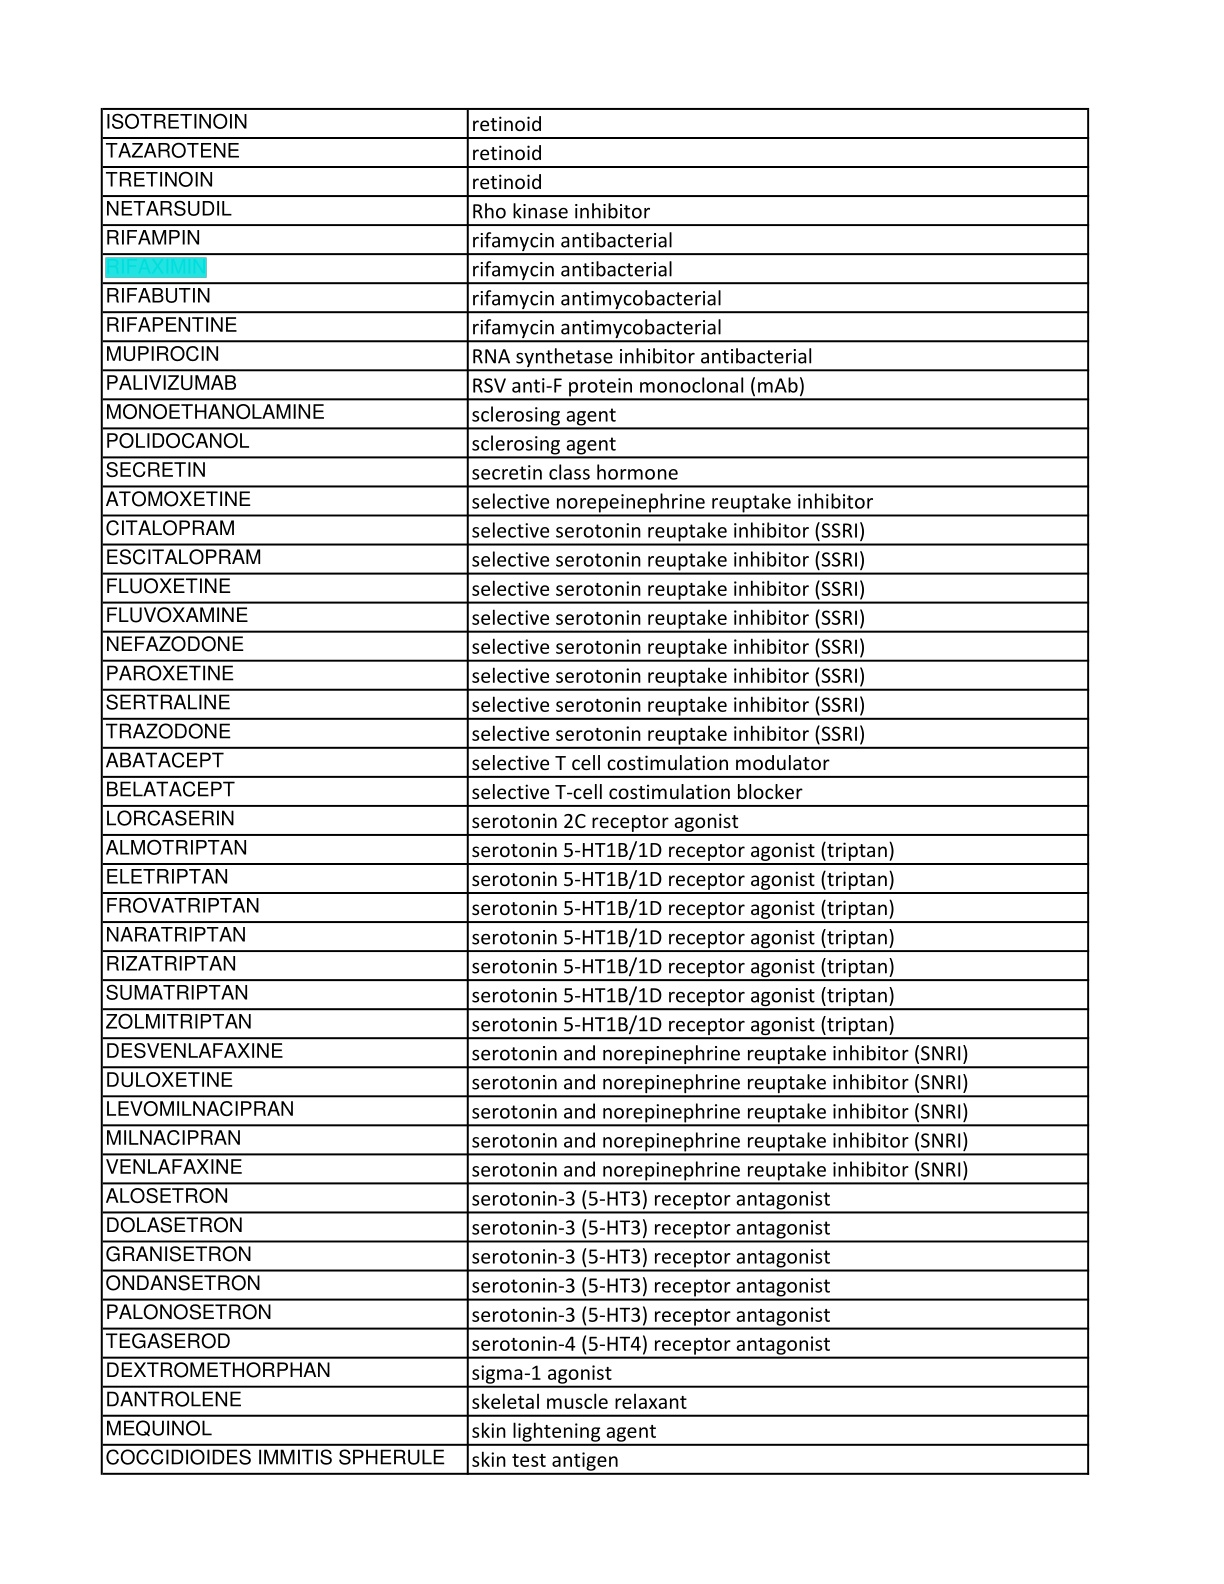full_lined: (100, 107, 1090, 1477)
